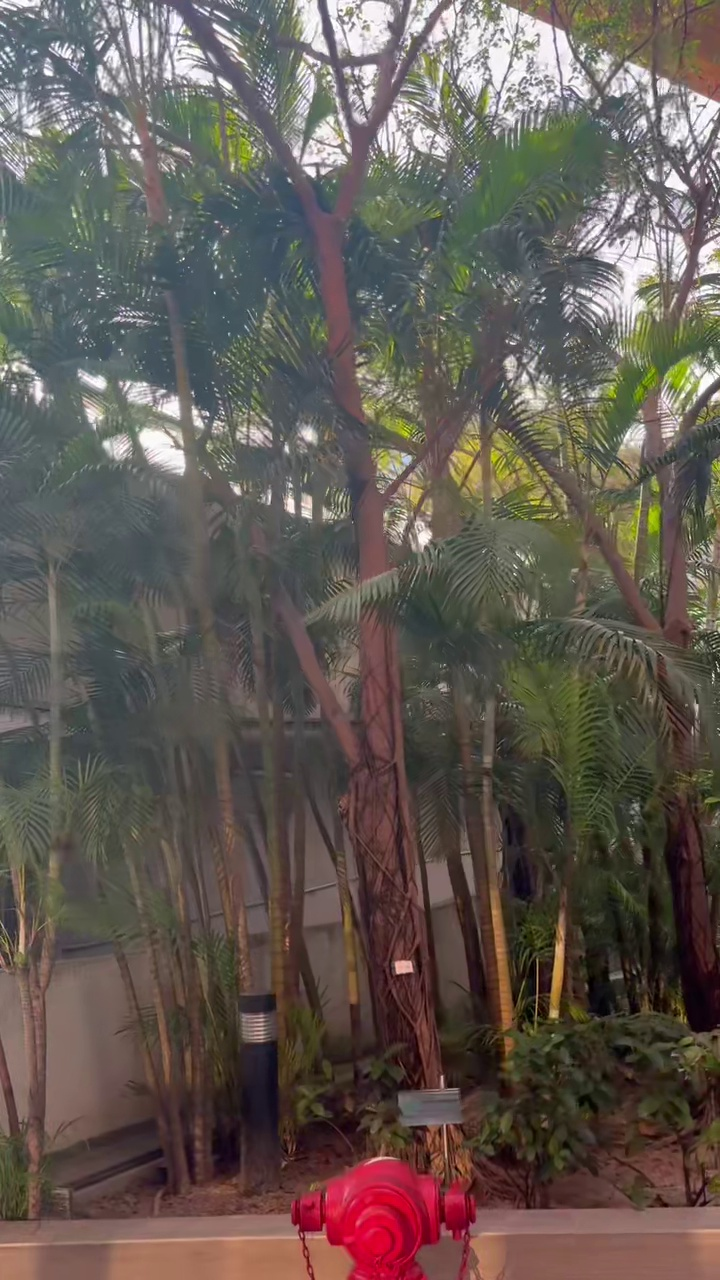Ficus benjamina: (167, 0, 448, 1088)
